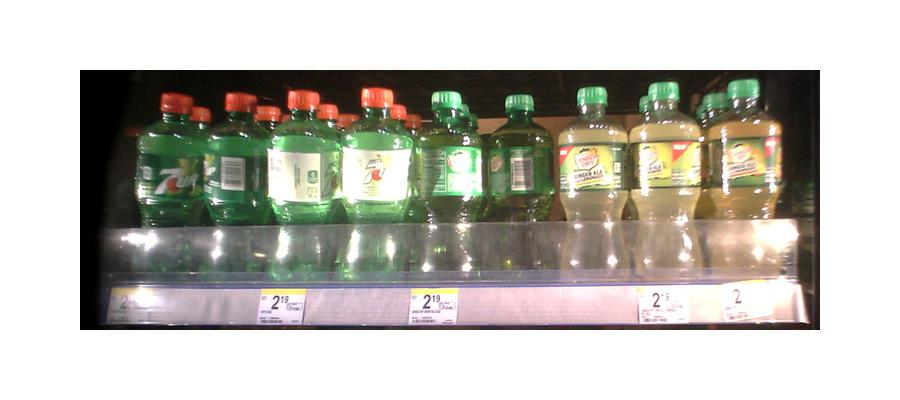bottle: (705, 74, 782, 270), (630, 83, 704, 277), (337, 92, 412, 282), (479, 94, 557, 273), (557, 86, 629, 277), (265, 95, 338, 281), (133, 90, 206, 273), (413, 93, 479, 280), (205, 94, 267, 278)
